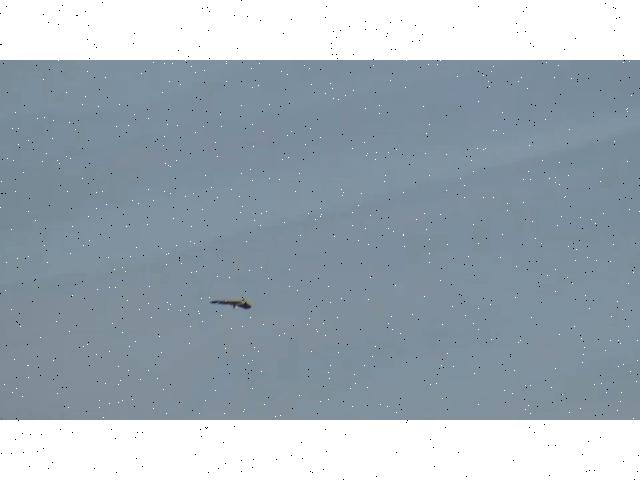Anti-Drone: (212, 299, 252, 309)
